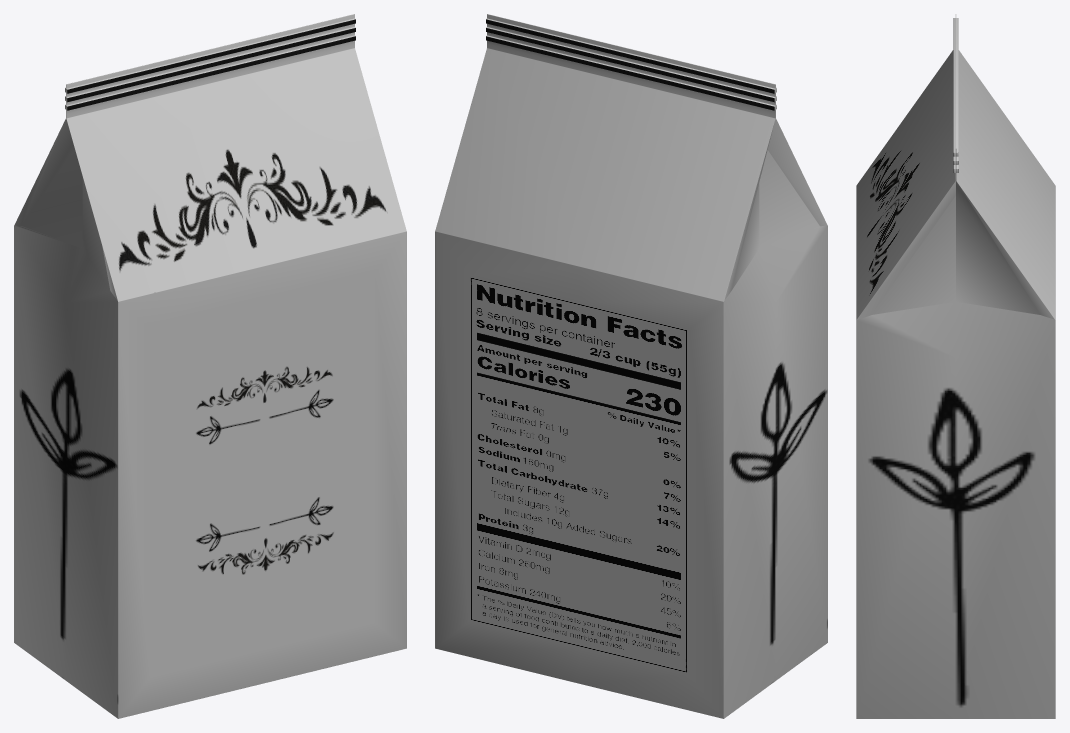
Rendered from Flour.fbx.
3 renders of one model, left to right at view 1: azimuth 30°, elevation 25°; view 2: azimuth 150°, elevation 25°; view 3: azimuth 270°, elevation 25°, orthographic. The views are drawn at different scales.
Visible parts, largest first — view 1: Cube; view 2: Cube; view 3: Cube.
Part boxes in pixels (<box>): Cube: <box>14,14,406,718</box>; Cube: <box>435,14,827,718</box>; Cube: <box>856,14,1055,718</box>.
Size of the model in its own units: 18.34 by 36.2 by 11.45.
